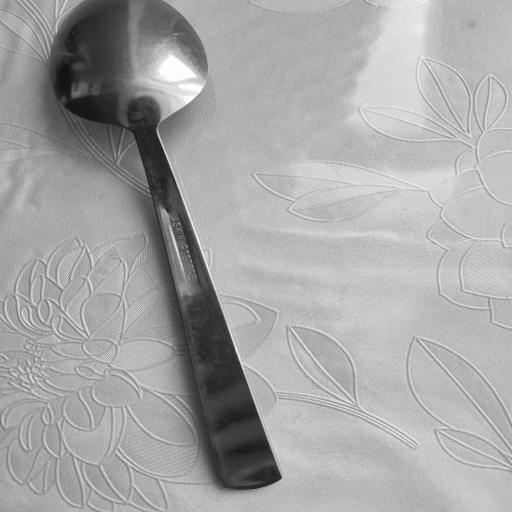spoon: (52, 0, 284, 490)
